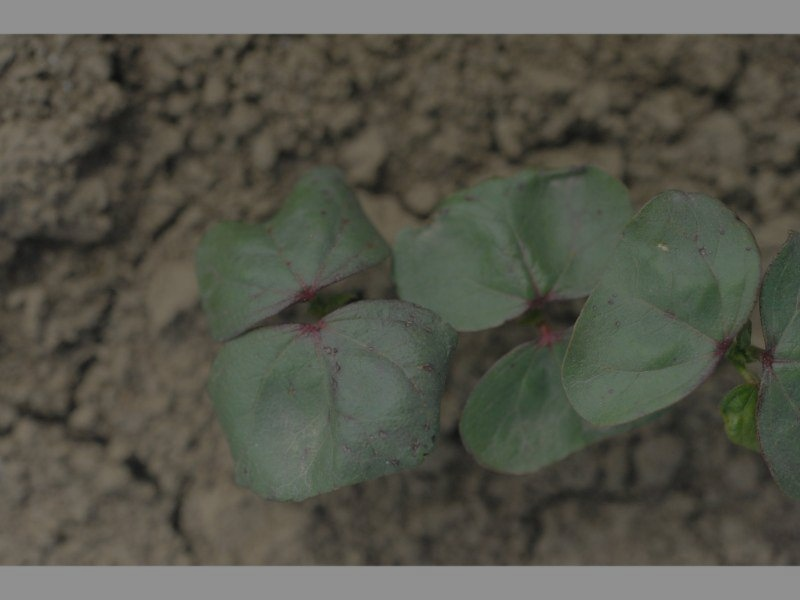cotton: (194, 164, 800, 502)
